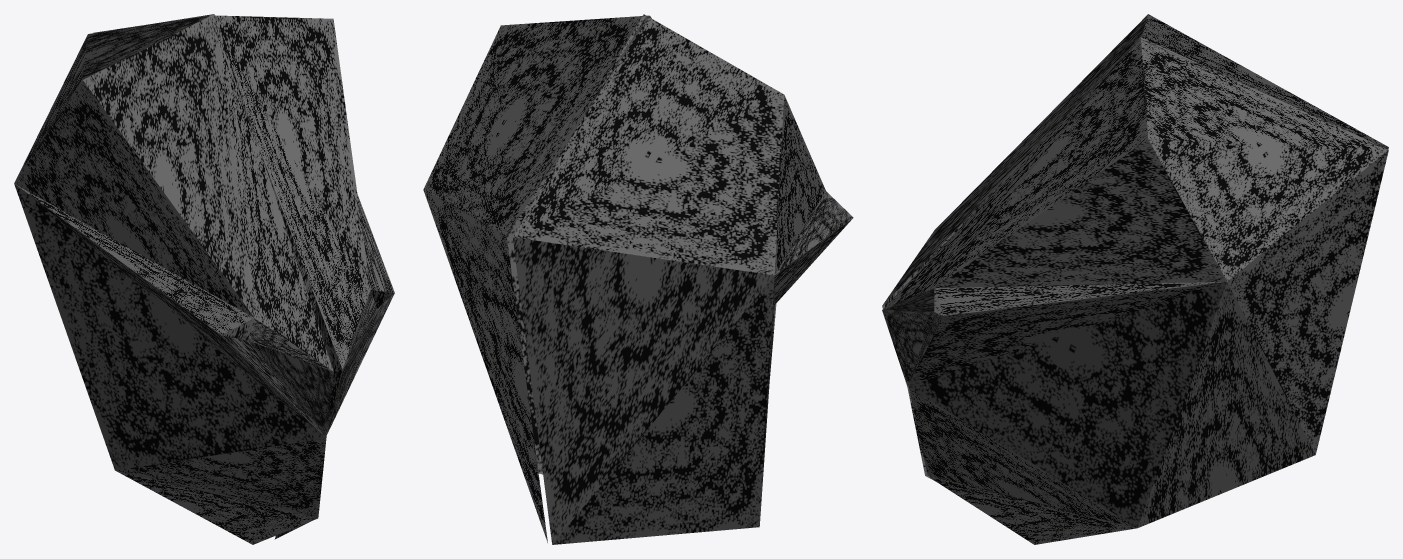
Rendered from CitizenOneHead.fbx.
3 renders of one model, left to right at view 1: azimuth 30°, elevation 25°; view 2: azimuth 150°, elevation 25°; view 3: azimuth 270°, elevation 25°, orthographic. The views are drawn at different scales.
Parts seen in each view (by area): view 1: CitizenOneHead; view 2: CitizenOneHead; view 3: CitizenOneHead.
Part boxes in pixels (<box>): CitizenOneHead: <box>14,14,394,544</box>; CitizenOneHead: <box>423,14,853,544</box>; CitizenOneHead: <box>882,14,1388,544</box>.
Bounding box in the file's own units: 159 × 239 × 219.
